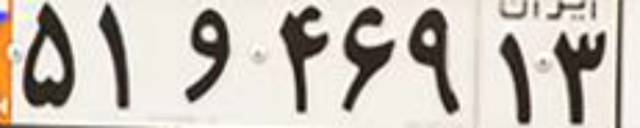1: (97, 4, 131, 109), (498, 31, 532, 123)
3: (551, 29, 605, 125)
4: (277, 3, 328, 112)
5: (22, 2, 75, 108)
6: (342, 4, 396, 113)
9: (406, 4, 462, 116)
vav: (177, 8, 229, 103)
